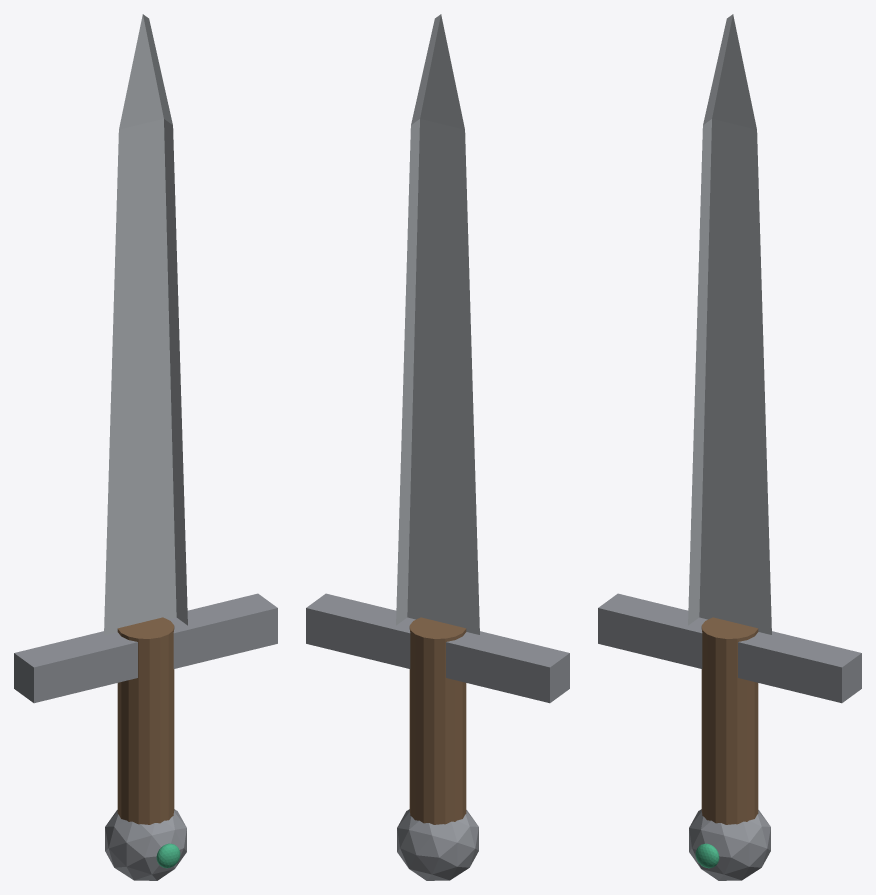
The model's file is longsword_with_emerald_gemstone.glb.
3 renders of one model, left to right at view 1: azimuth 30°, elevation 25°; view 2: azimuth 150°, elevation 25°; view 3: azimuth 330°, elevation 25°, orthographic.
Parts seen in each view (by area): view 1: sword_0_0, sword_0_1, sword_0_2, sword_0_3; view 2: sword_0_0, sword_0_1, sword_0_2, sword_0_3; view 3: sword_0_0, sword_0_1, sword_0_2, sword_0_3.
Part boxes in pixels (x1,y1,x2,y2): sword_0_0: (104,14,187,634); sword_0_1: (14,593,277,703); sword_0_2: (117,617,174,824); sword_0_3: (105,809,186,880); sword_0_0: (396,14,479,634); sword_0_1: (306,593,569,703); sword_0_2: (409,617,466,824); sword_0_3: (397,809,478,880); sword_0_0: (688,14,771,634); sword_0_1: (598,593,861,703); sword_0_2: (701,617,758,824); sword_0_3: (689,809,770,880).
Size of the model in its own units: 1.28 by 4.33 by 0.4367.
